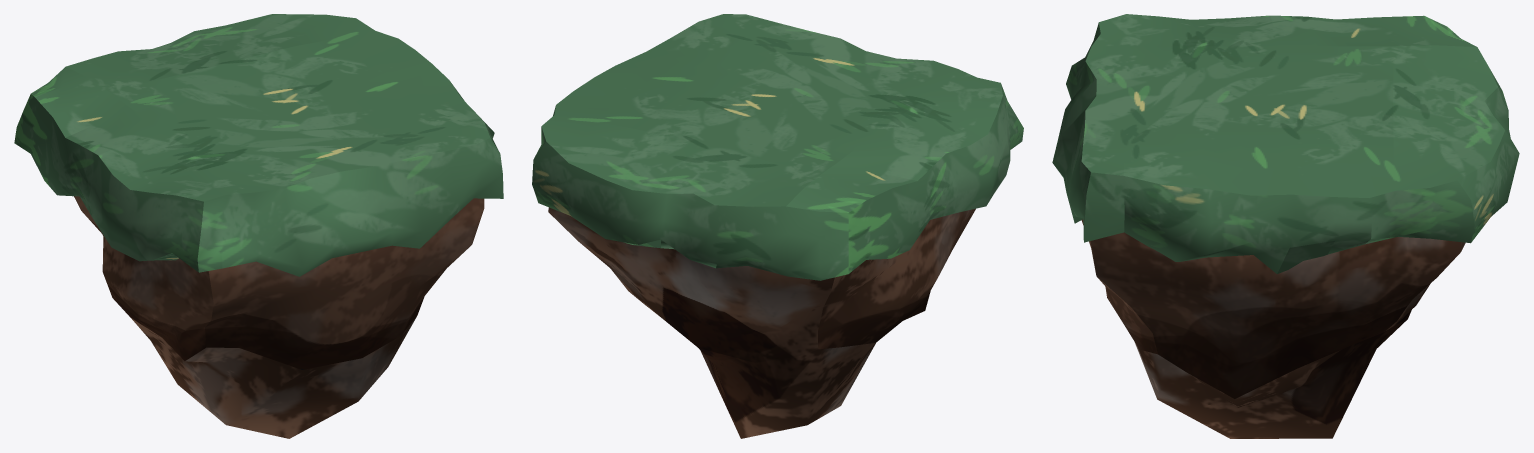
The model's file is Terreno_Big.fbx.
The picture shows the model from 3 angles, left to right: view 1: azimuth 30°, elevation 25°; view 2: azimuth 150°, elevation 25°; view 3: azimuth 270°, elevation 25°; orthographic projection. The views are drawn at different scales.
Visible parts, largest first — view 1: pCube24, pCube25; view 2: pCube24, pCube25; view 3: pCube24, pCube25.
Boxes of the visible parts, x1=… form: pCube24: x1=14, y1=14, x2=503, y2=276; pCube25: x1=74, y1=196, x2=484, y2=438; pCube24: x1=532, y1=14, x2=1023, y2=280; pCube25: x1=548, y1=207, x2=975, y2=438; pCube24: x1=1052, y1=14, x2=1519, y2=273; pCube25: x1=1081, y1=219, x2=1465, y2=438.
Size of the model in its own units: 41.85 by 34.22 by 42.56.
